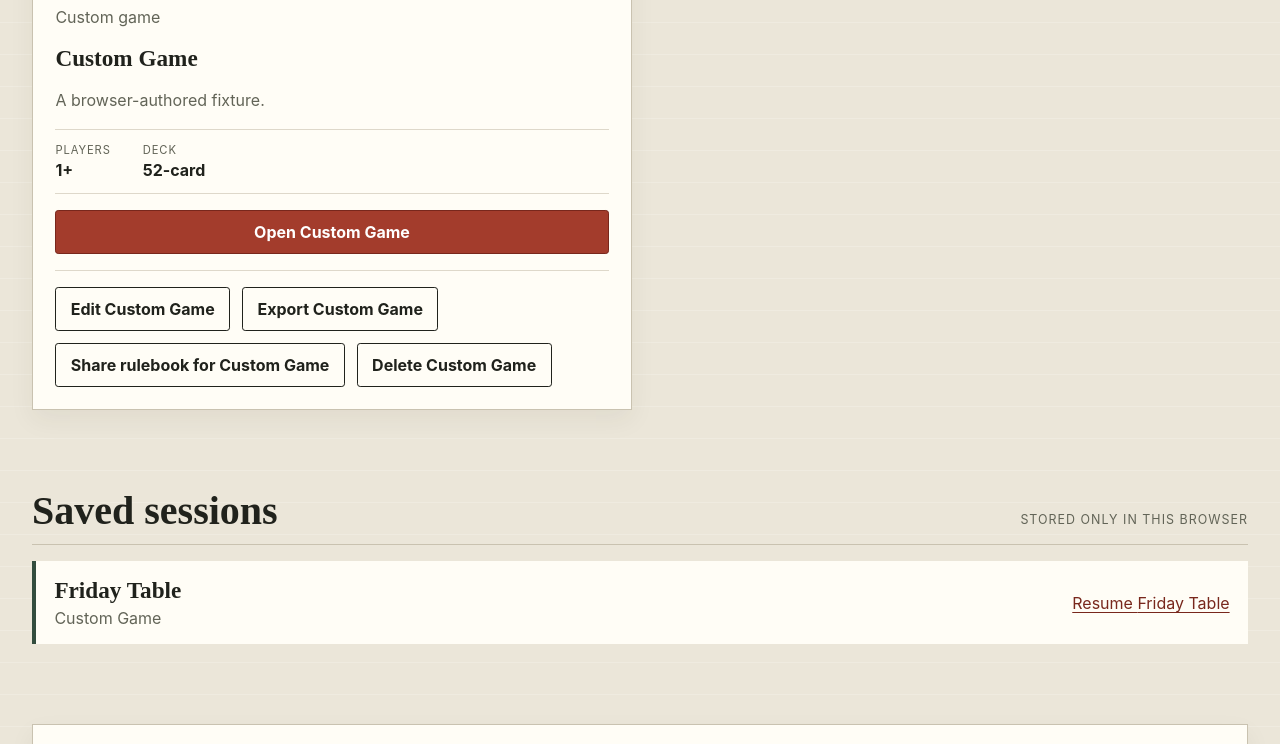
Test case: custom game catalog management › blocks confirmed deletion while a named saved session uses the game
This screenshot has width=1280, height=744.
(page scrolled)
Step 1. Click the button "Delete Custom Game" → point(454, 365), box x1=357 y1=343 x2=552 y2=387
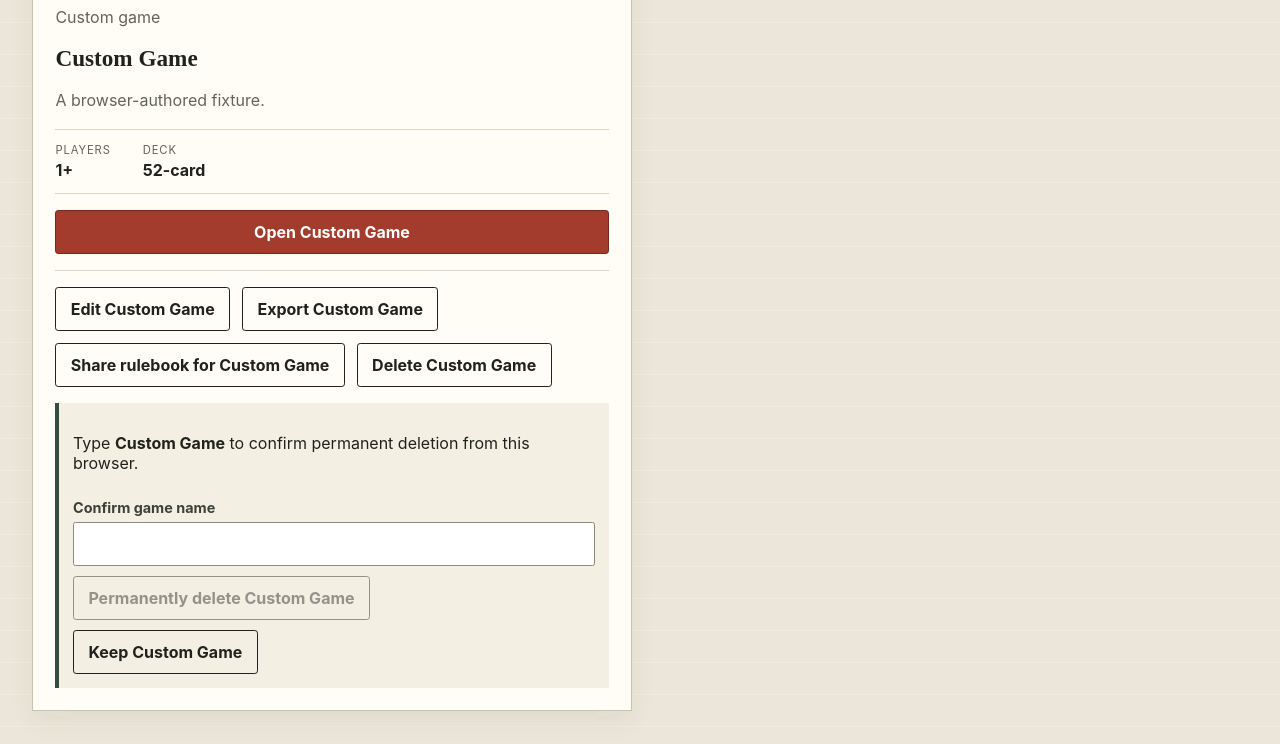
Step 2. Type "Custom Game" into the field labelled "Confirm game name" → point(334, 544), box x1=73 y1=522 x2=595 y2=566
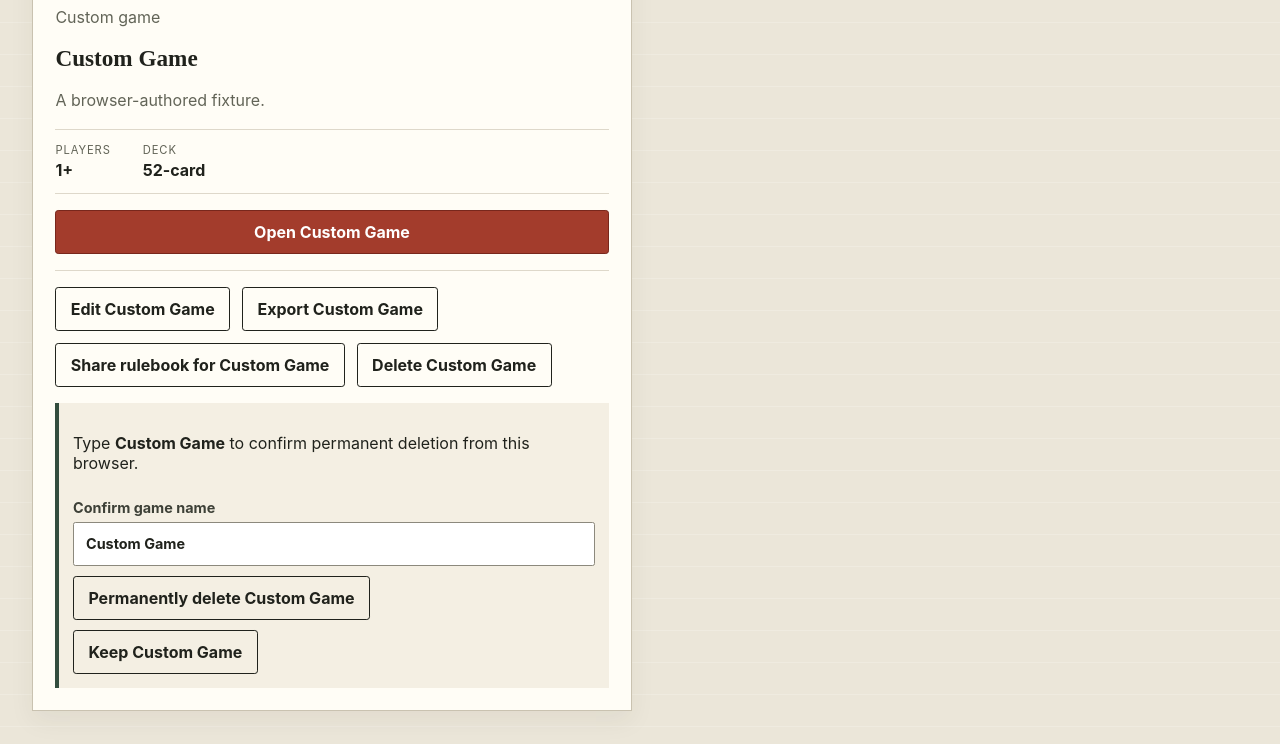
Step 3. Click the button "Permanently delete Custom Game" → point(222, 598), box x1=73 y1=576 x2=370 y2=620
(page scrolled)
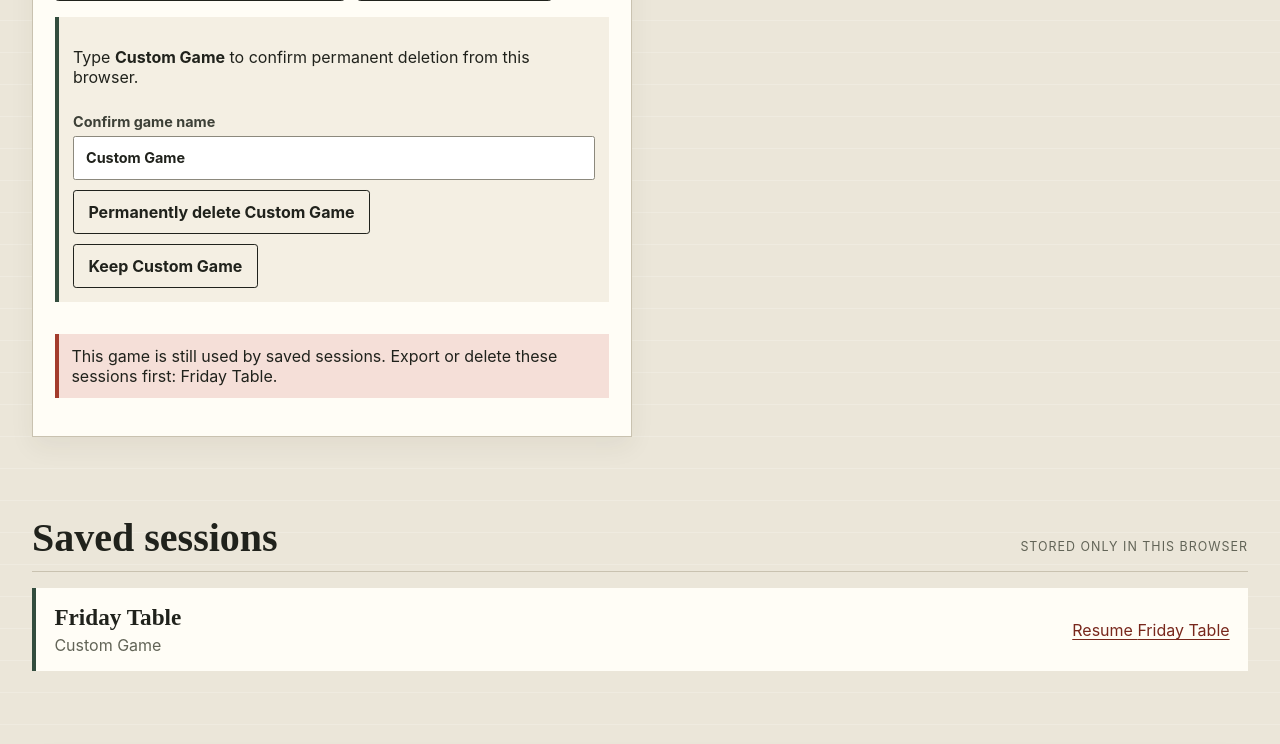
Now the message shows "Friday Table", box x1=71 y1=346 x2=557 y2=386
